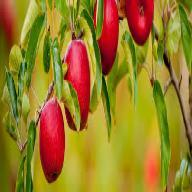apple: (38, 94, 68, 186), (63, 41, 93, 126), (91, 2, 117, 72)
